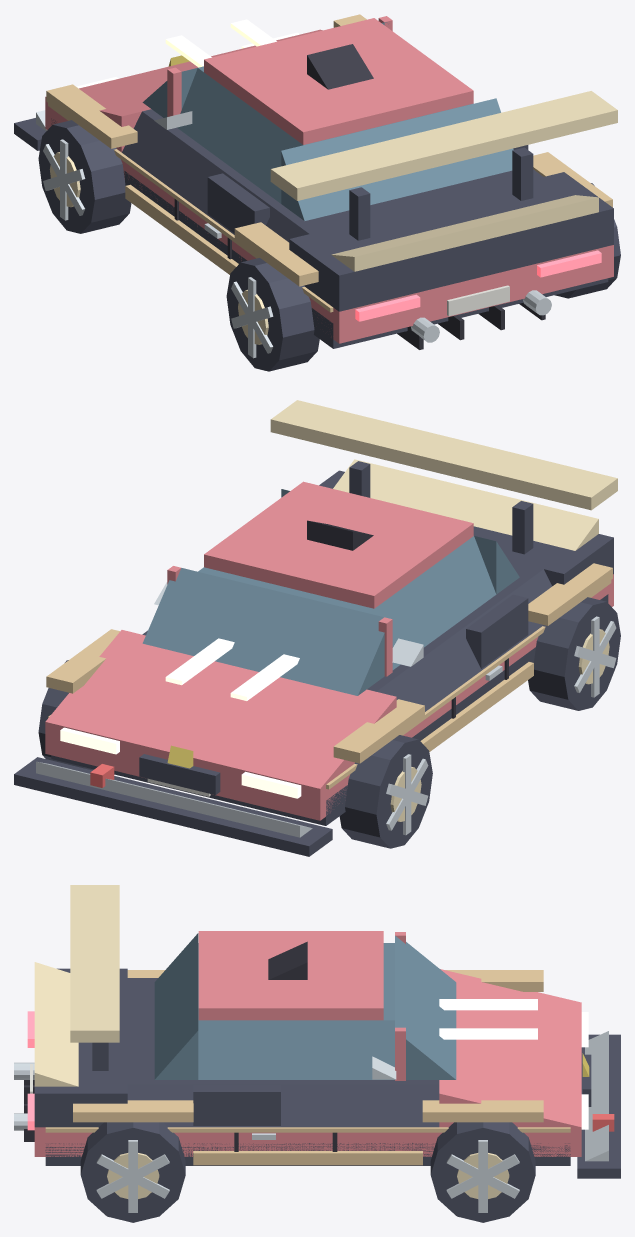
The model's file is chicane_chaser.glb.
3 renders of one model, top to bottom at view 1: azimuth 30°, elevation 25°; view 2: azimuth 150°, elevation 25°; view 3: azimuth 270°, elevation 25°, orthographic. The views are drawn at different scales.
Visible parts, largest first — view 1: Tail.080, Roof.280, RearWing.043, RearWindow.180, Body.280, CabinSideL.077, Ducktail.059, Wheel_RL.240, Wheel_FL.240, ShoulderL.077, BodyUpper.077, Nose.077 (+27 smaller); view 2: Nose.077, Roof.280, Windshield.180, RearWing.043, Ducktail.059, Splitter.047, Body.280, CabinSideL.077, Wheel_FL.240, Wheel_RL.240, ShoulderL.077, Tail.080 (+21 smaller); view 3: Roof.280, Nose.077, CabinSideR.077, ShoulderR.077, RearWing.043, Body.280, Windshield.180, Wheel_RR.240, Wheel_FR.240, RearWindow.180, Tail.080, Ducktail.059 (+24 smaller).
Part boxes in pixels (x1,y1,x2,y2): Tail.080: [289, 172, 613, 311]; Roof.280: [204, 18, 473, 144]; RearWing.043: [270, 91, 617, 200]; RearWindow.180: [281, 98, 513, 220]; Body.280: [45, 97, 613, 343]; CabinSideL.077: [177, 68, 302, 203]; Ducktail.059: [331, 195, 598, 271]; Wheel_RL.240: [226, 258, 319, 371]; Wheel_FL.240: [38, 120, 131, 233]; ShoulderL.077: [122, 111, 308, 242]; BodyUpper.077: [142, 109, 543, 233]; Nose.077: [45, 29, 322, 152]; Nose.077: [45, 630, 396, 788]; Roof.280: [204, 481, 473, 608]; Windshield.180: [142, 568, 384, 695]; RearWing.043: [270, 400, 617, 510]; Ducktail.059: [333, 459, 598, 550]; Splitter.047: [14, 757, 332, 856]; Body.280: [45, 574, 613, 820]; CabinSideL.077: [368, 536, 496, 669]; Wheel_FL.240: [339, 735, 432, 848]; Wheel_RL.240: [528, 597, 620, 710]; ShoulderL.077: [376, 569, 552, 711]; Tail.080: [319, 470, 613, 585]; Roof.280: [198, 931, 383, 1020]; Nose.077: [439, 969, 581, 1127]; CabinSideR.077: [198, 1020, 394, 1079]; ShoulderR.077: [127, 1084, 439, 1127]; RearWing.043: [70, 885, 119, 1042]; Body.280: [34, 1127, 581, 1156]; Windshield.180: [395, 936, 456, 1079]; Wheel_RR.240: [80, 1122, 185, 1222]; Wheel_FR.240: [430, 1122, 535, 1222]; RearWindow.180: [154, 933, 198, 1079]; Tail.080: [34, 968, 127, 1127]; Ducktail.059: [34, 962, 78, 1086].
Bounding box in the file's own units: 3.4 × 1.96 × 5.55.
